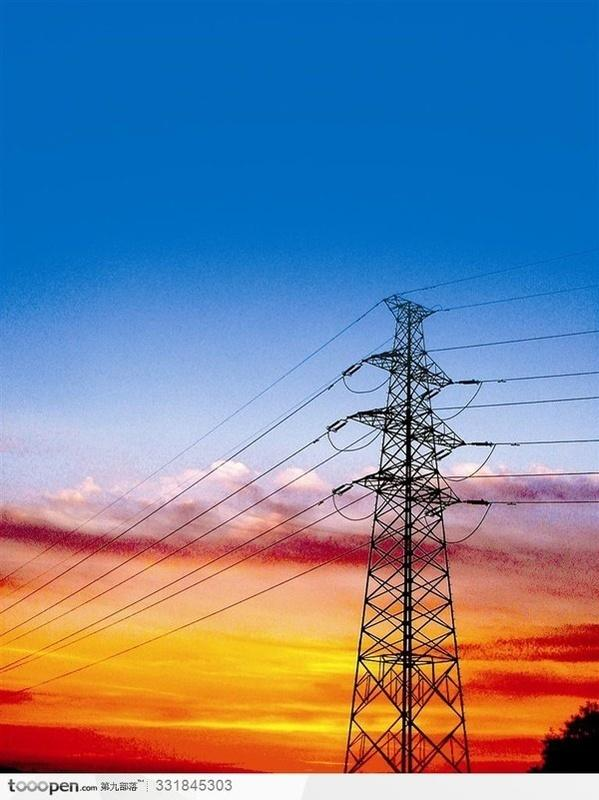power_tower: (334, 285, 475, 765)
